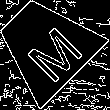M_NW: (11, 11, 79, 79)
